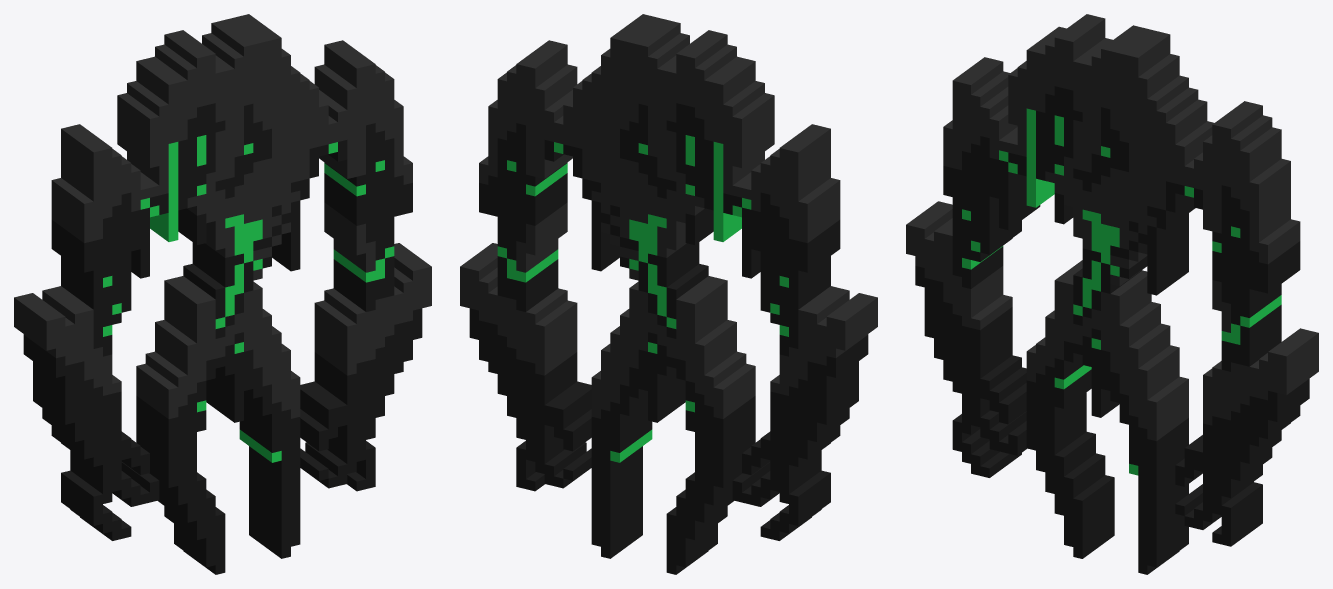
File: ballerina.obj
3 renders of one model, left to right at view 1: azimuth 30°, elevation 25°; view 2: azimuth 150°, elevation 25°; view 3: azimuth 330°, elevation 25°, orthographic.
Size of the model in its own units: 82 by 106 by 12.
